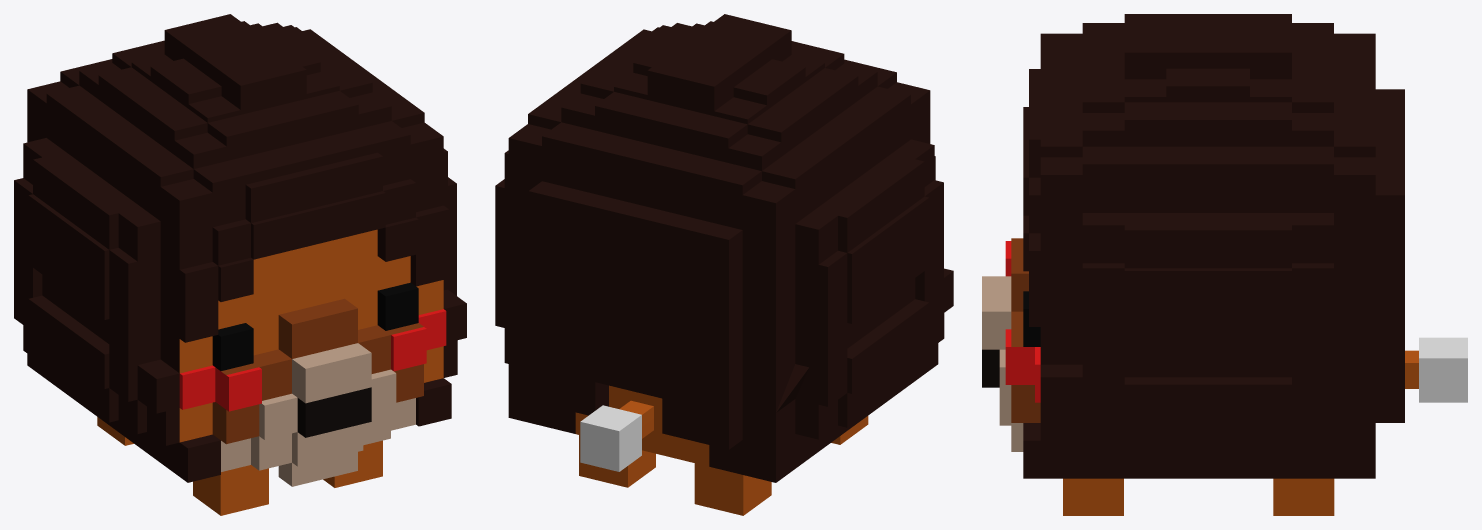
Rendered from Lion.FBX.
The picture shows the model from 3 angles, left to right: view 1: azimuth 30°, elevation 25°; view 2: azimuth 150°, elevation 25°; view 3: azimuth 270°, elevation 25°; orthographic projection. The views are drawn at different scales.
Visible parts, largest first — view 1: Box001, Box005, Box004; view 2: Box001, Box006, Box002, Box003; view 3: Box001, Box006, Box003, Box004.
Part boxes in pixels (box(x1,y1,x2,y2)): Box001: box(14, 14, 466, 486); Box005: box(193, 465, 268, 515); Box004: box(323, 440, 382, 487); Box001: box(495, 14, 953, 482); Box006: box(580, 405, 641, 471); Box002: box(694, 463, 771, 515); Box003: box(579, 435, 655, 487); Box001: box(982, 14, 1418, 478); Box006: box(1419, 337, 1467, 402); Box003: box(1273, 478, 1334, 515); Box004: box(1063, 478, 1123, 515).
Size of the model in its own units: 40.28 by 45.32 by 45.63.
